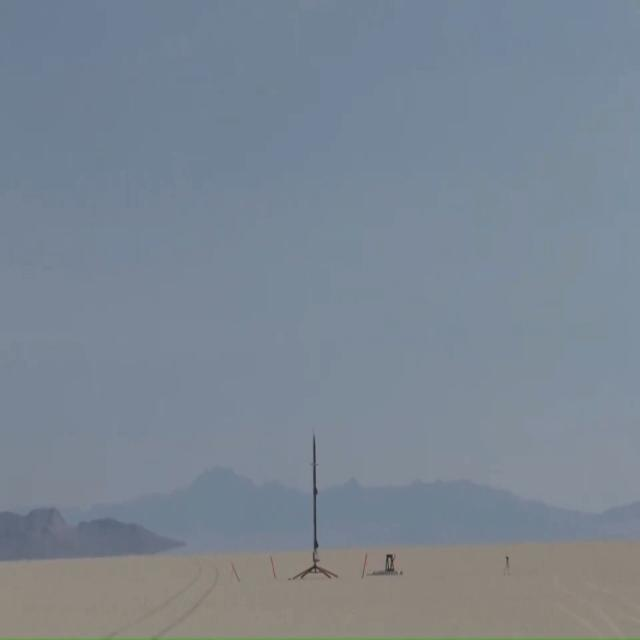Rocket: (312, 434, 319, 552)
